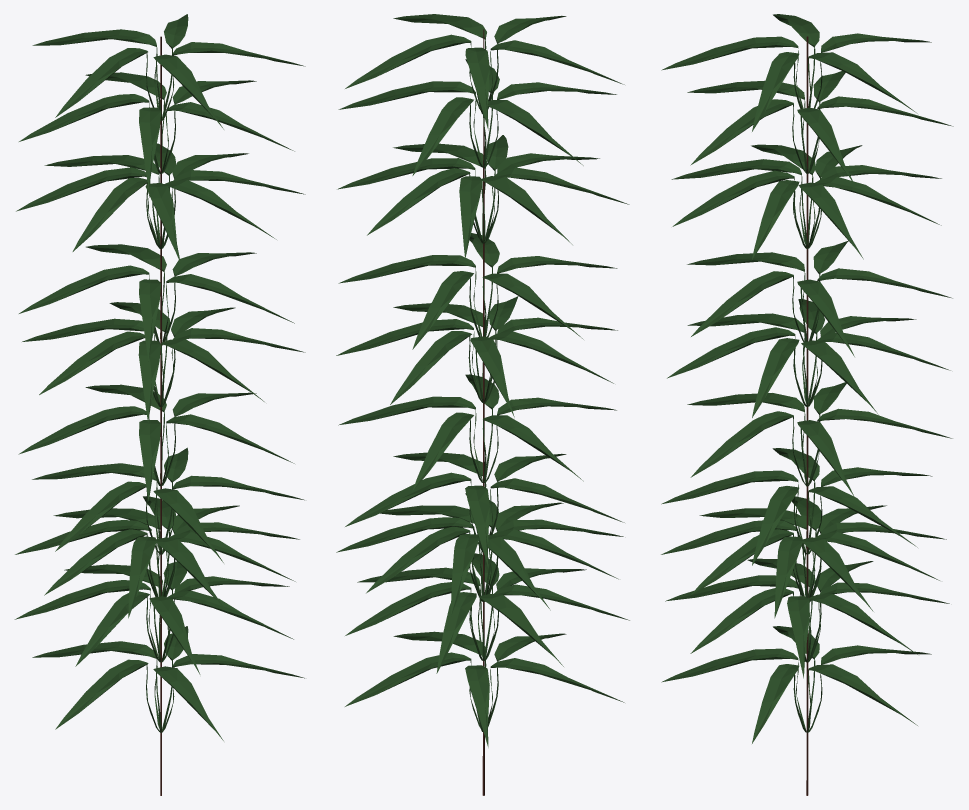
The model's file is plant2.fbx.
3 renders of one model, left to right at view 1: azimuth 30°, elevation 25°; view 2: azimuth 150°, elevation 25°; view 3: azimuth 270°, elevation 25°, orthographic.
Visible parts, largest first — view 1: Circle.012; view 2: Circle.012; view 3: Circle.012.
Boxes of the visible parts, x1,y1,x2,y2 form: Circle.012: (14,14,305,795); Circle.012: (336,14,629,795); Circle.012: (661,14,953,795).
Size of the model in its own units: 73.92 by 210 by 73.95.
